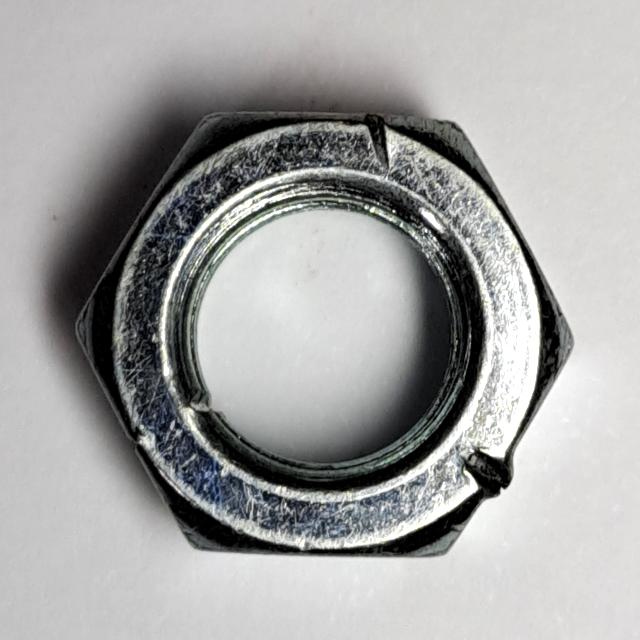Scratches: (53, 96, 592, 576)
